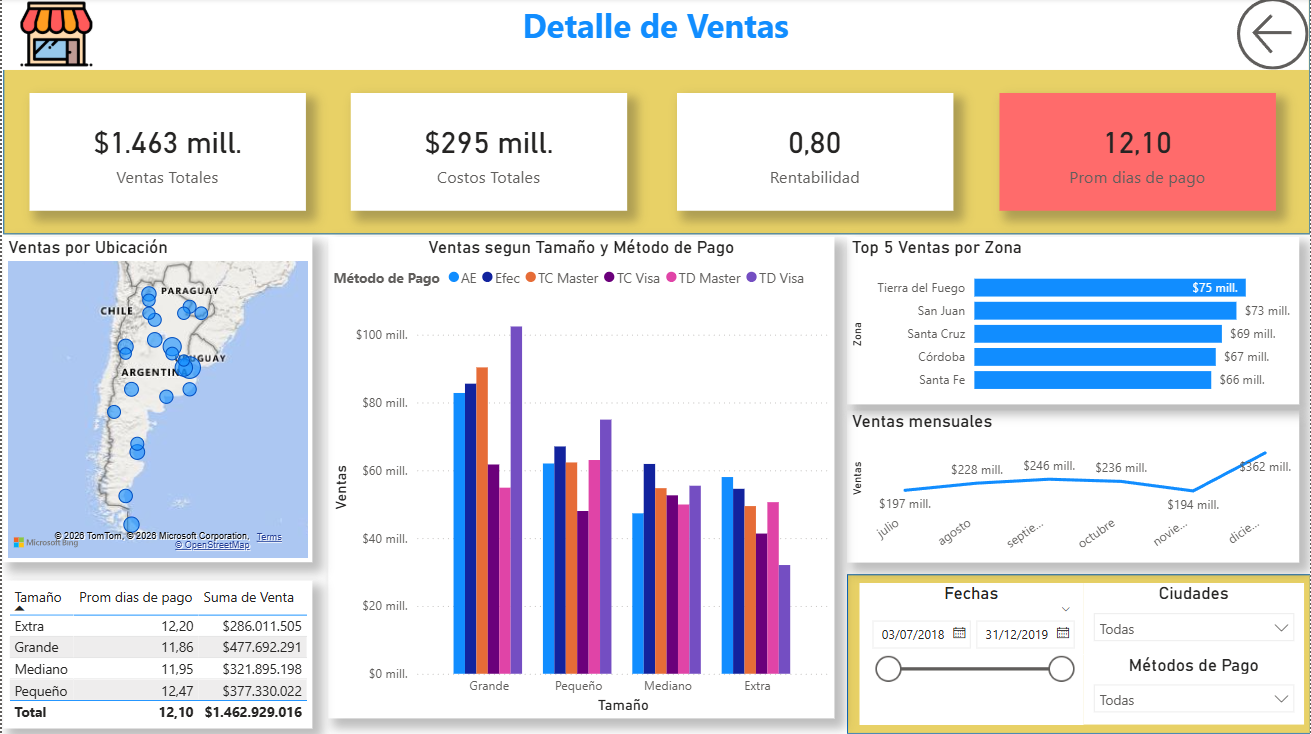

What the dashboard file says about the page in this screenshot:
{"tool":"powerbi","page":{"name":"Detalle de Ventas","canvas":[1280,720],"ordinal":1},"visuals":[{"type":"shape","box":[826.2,563.8,453.8,156.2],"z":0},{"type":"shape","box":[1.2,0,1278.8,231.2],"z":1000},{"type":"textbox","box":[0,0,1278.8,70],"z":2000},{"type":"image","box":[1.2,0,103.8,70],"z":3000},{"type":"actionButton","box":[1208.8,0,70,70],"z":4000},{"type":"card","fields":{"Values":["Medidas.Ventas totales"]},"box":[27.5,92.5,270,115],"z":5000},{"type":"card","title":"Costos Totales","fields":{"Values":["Sum(Ventas.Costos totales)"]},"box":[341.2,92.5,270,115],"z":6000},{"type":"card","fields":{"Values":["Medidas.Rentabilidad"]},"box":[660,92.5,270,115],"z":7000},{"type":"card","fields":{"Values":["Medidas.Prom dias de pago"]},"box":[976.2,92.5,270,115],"z":8000},{"type":"slicer","title":"Fechas","fields":{"Values":["Ventas.Fecha Entrega"]},"box":[839,572.3,218.8,138.8],"z":9000},{"type":"slicer","title":"Ciudades","fields":{"Values":["Territorio.País  Jerarquía.Ciudad"]},"box":[1057.8,572.3,216.2,70],"z":10000},{"type":"slicer","title":"Métodos de Pago","fields":{"Values":["Metodos de pago.Descripción"]},"box":[1057.8,642.3,216.2,68.8],"z":11000},{"type":"lineChart","title":"Ventas mensuales","fields":{"Y":["Sum(Ventas.Venta)"],"Category":["Calendario.Date.Variación.Jerarquía de fechas.Mes"]},"box":[826.2,403.8,442.5,148.8],"z":12000},{"type":"barChart","title":"Top 5 Ventas por Zona","fields":{"Y":["Sum(Ventas.Venta)"],"Category":["Territorio.País  Jerarquía.Provincia","Territorio.País  Jerarquía.Ciudad"]},"box":[826.2,233.8,442.5,163.8],"z":13000},{"type":"clusteredColumnChart","title":"Ventas segun Tamaño y Método de Pago","fields":{"Category":["Producto.Tamaño "],"Y":["Sum(Ventas.Venta)"],"Series":["Metodos de pago.DescripciónAbreviada"]},"box":[318.8,233.8,495,471.2],"z":14000},{"type":"map","title":"Ventas por Ubicación","fields":{"Size":["Sum(Ventas.Venta)"],"X":["Territorio.Longitud"],"Y":["Territorio.Latitud"]},"box":[1.2,233.8,302.5,318.8],"z":15000},{"type":"tableEx","fields":{"Values":["Producto.Tamaño ","Medidas.Prom dias de pago","Sum(Ventas.Venta)"]},"box":[1.2,570,302.5,145],"z":16000}]}

Visuals, with their boxes in screenshot pixels (x1, y1, x2, y2), scaled from the page's 1280x720 canvas onto the 1311x734 screenshot:
shape: select_region(846, 575, 1310, 733)
shape: select_region(1, 0, 1310, 236)
textbox: select_region(0, 0, 1310, 71)
image: select_region(1, 0, 108, 71)
actionButton: select_region(1238, 0, 1310, 71)
card - Medidas.Ventas totales: select_region(28, 94, 305, 212)
"Costos Totales" card: select_region(349, 94, 626, 212)
card - Medidas.Rentabilidad: select_region(676, 94, 953, 212)
card - Medidas.Prom dias de pago: select_region(1000, 94, 1276, 212)
"Fechas" slicer: select_region(859, 583, 1083, 725)
"Ciudades" slicer: select_region(1083, 583, 1305, 655)
"Métodos de Pago" slicer: select_region(1083, 655, 1305, 725)
"Ventas mensuales" lineChart: select_region(846, 412, 1299, 563)
"Top 5 Ventas por Zona" barChart: select_region(846, 238, 1299, 405)
"Ventas segun Tamaño y Método de Pago" clusteredColumnChart: select_region(327, 238, 834, 719)
"Ventas por Ubicación" map: select_region(1, 238, 311, 563)
tableEx - Producto.Tamaño  x Medidas.Prom dias de pago: select_region(1, 581, 311, 729)
